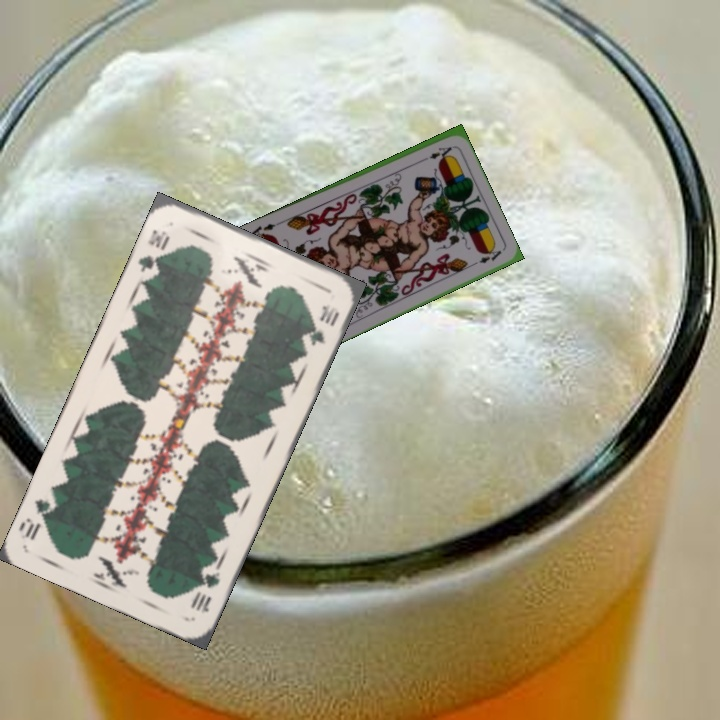EA: (416, 143, 454, 165)
G10: (186, 562, 223, 616), (134, 225, 173, 276)
